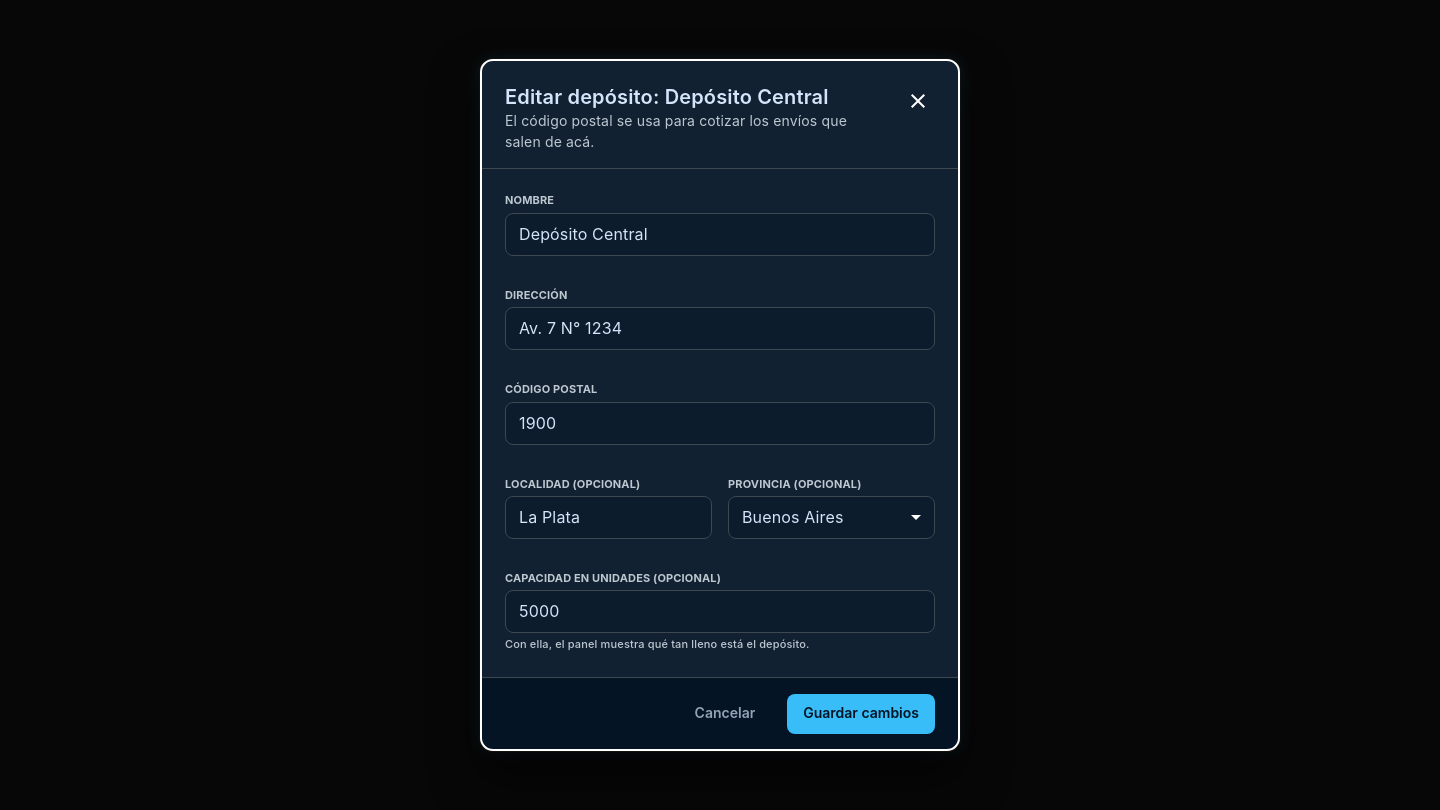
Test: WarehouseFormModal › the capacity › refuses zero, and says how to leave it undeclared
In the 5th field: (720, 612) [505,590,935,633], type "0"
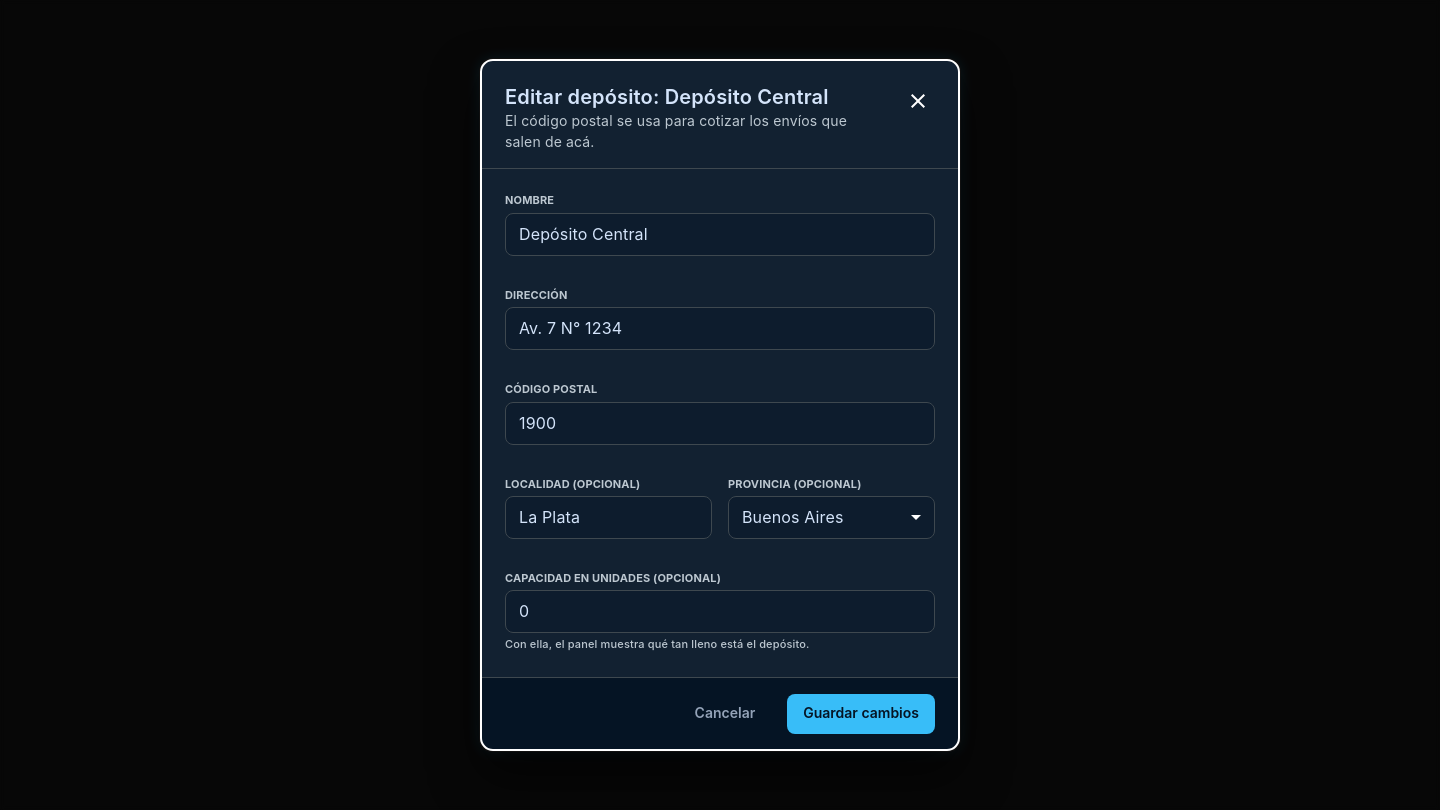
Click the button "Guardar cambios": (861, 714) [787,694,935,734]
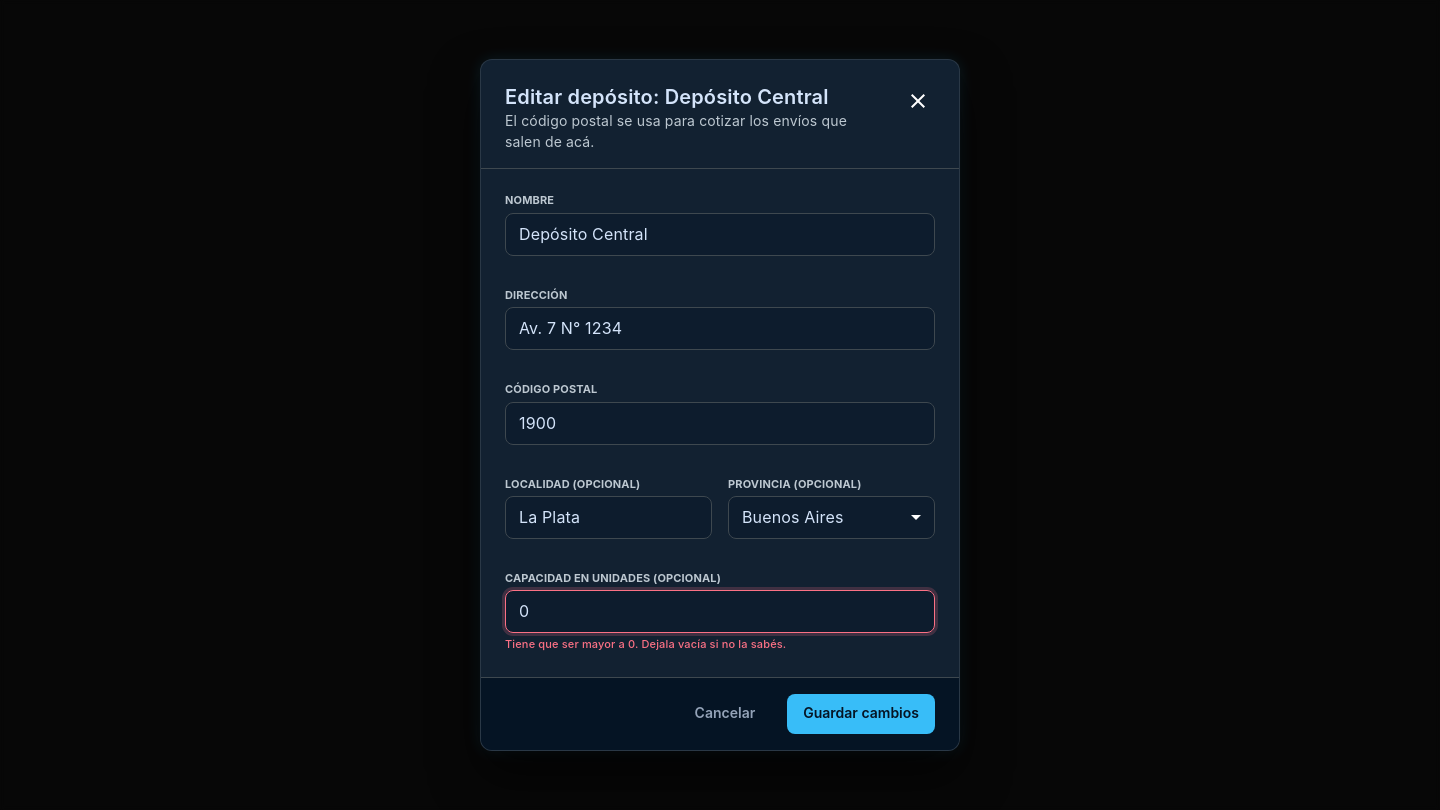
Check: the text "Tiene que ser mayor a 0. Dejala vacía si no la sabés." is shown, box [505,637,786,651]
